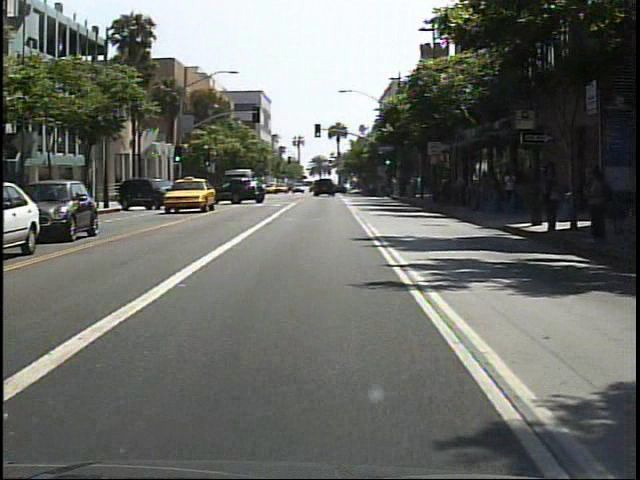person: (577, 166, 613, 245), (532, 159, 564, 238), (499, 167, 518, 211)
